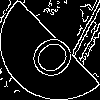O: (25, 25, 86, 84)
